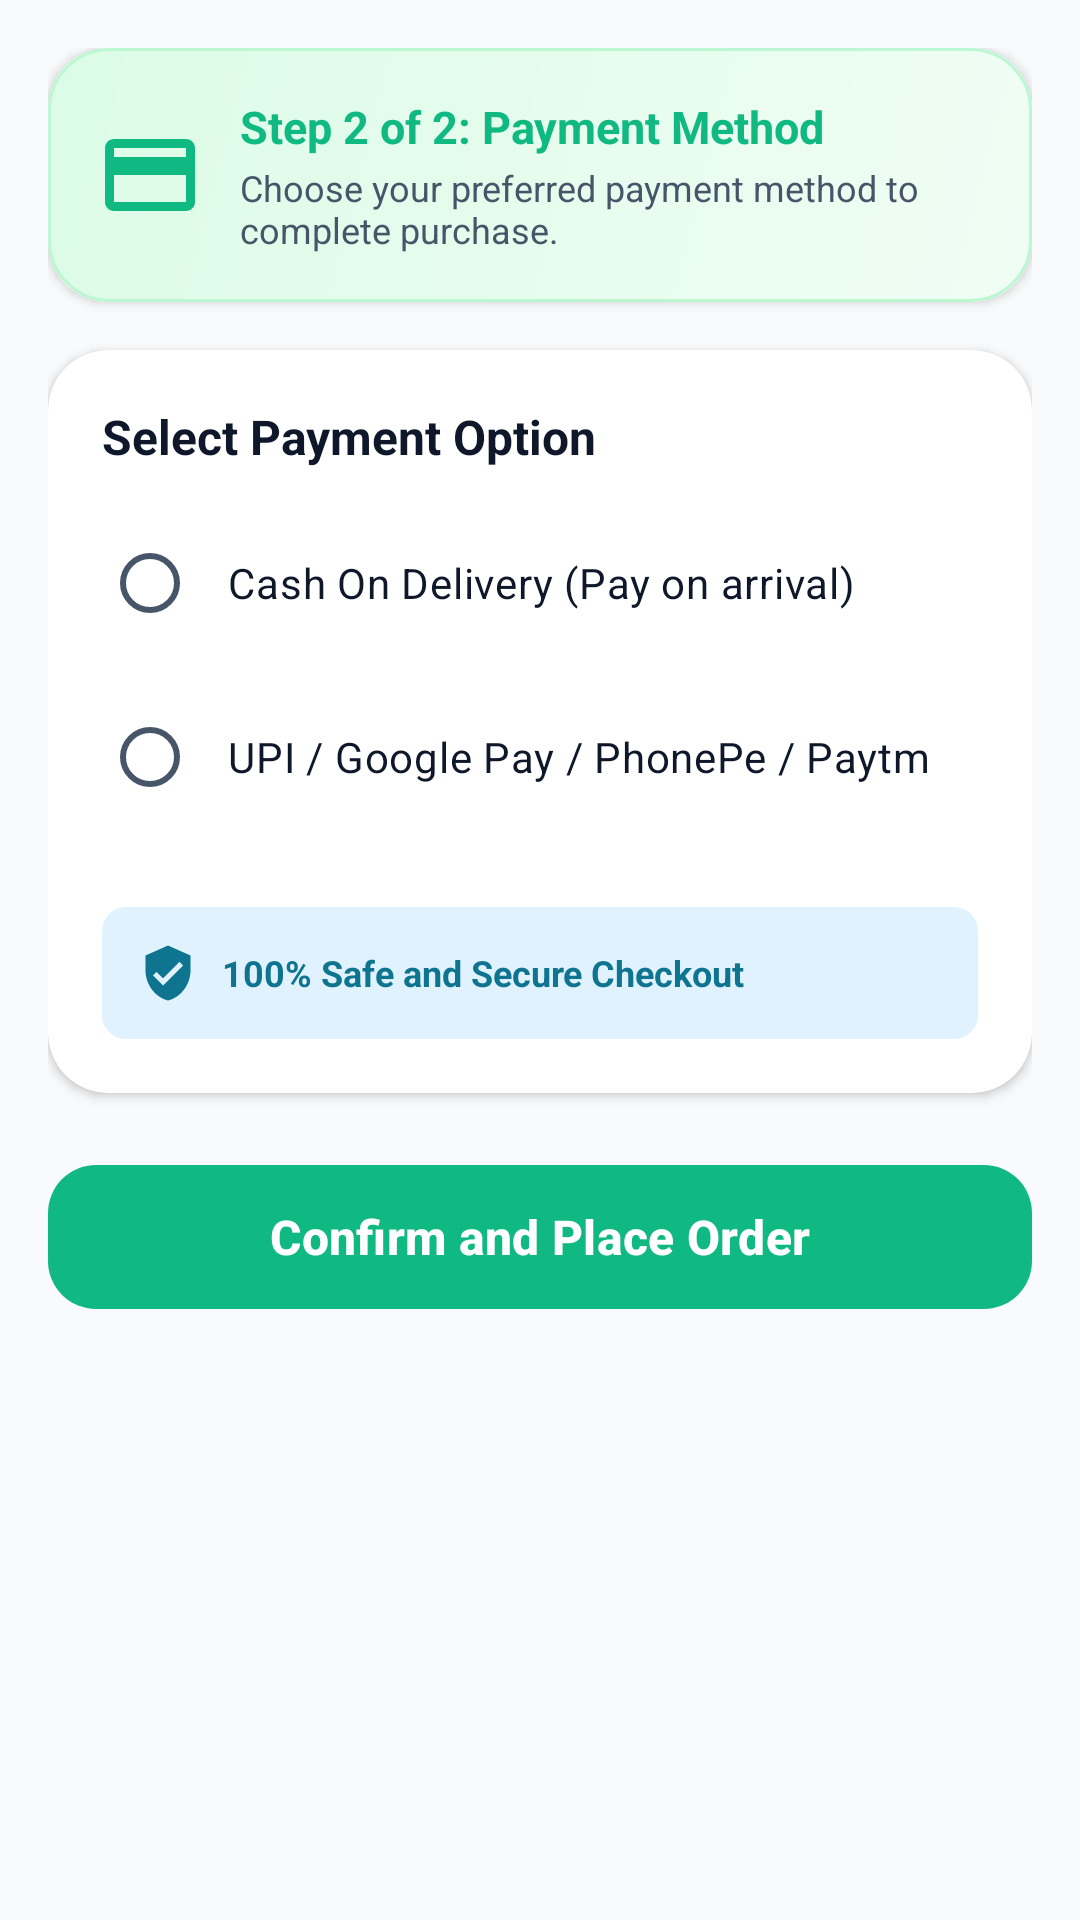

Where to tap for icons on this 1080px x 1920px app screen, as (x=x, y=y):
card: (x=150, y=175)
shield: (x=168, y=973)
